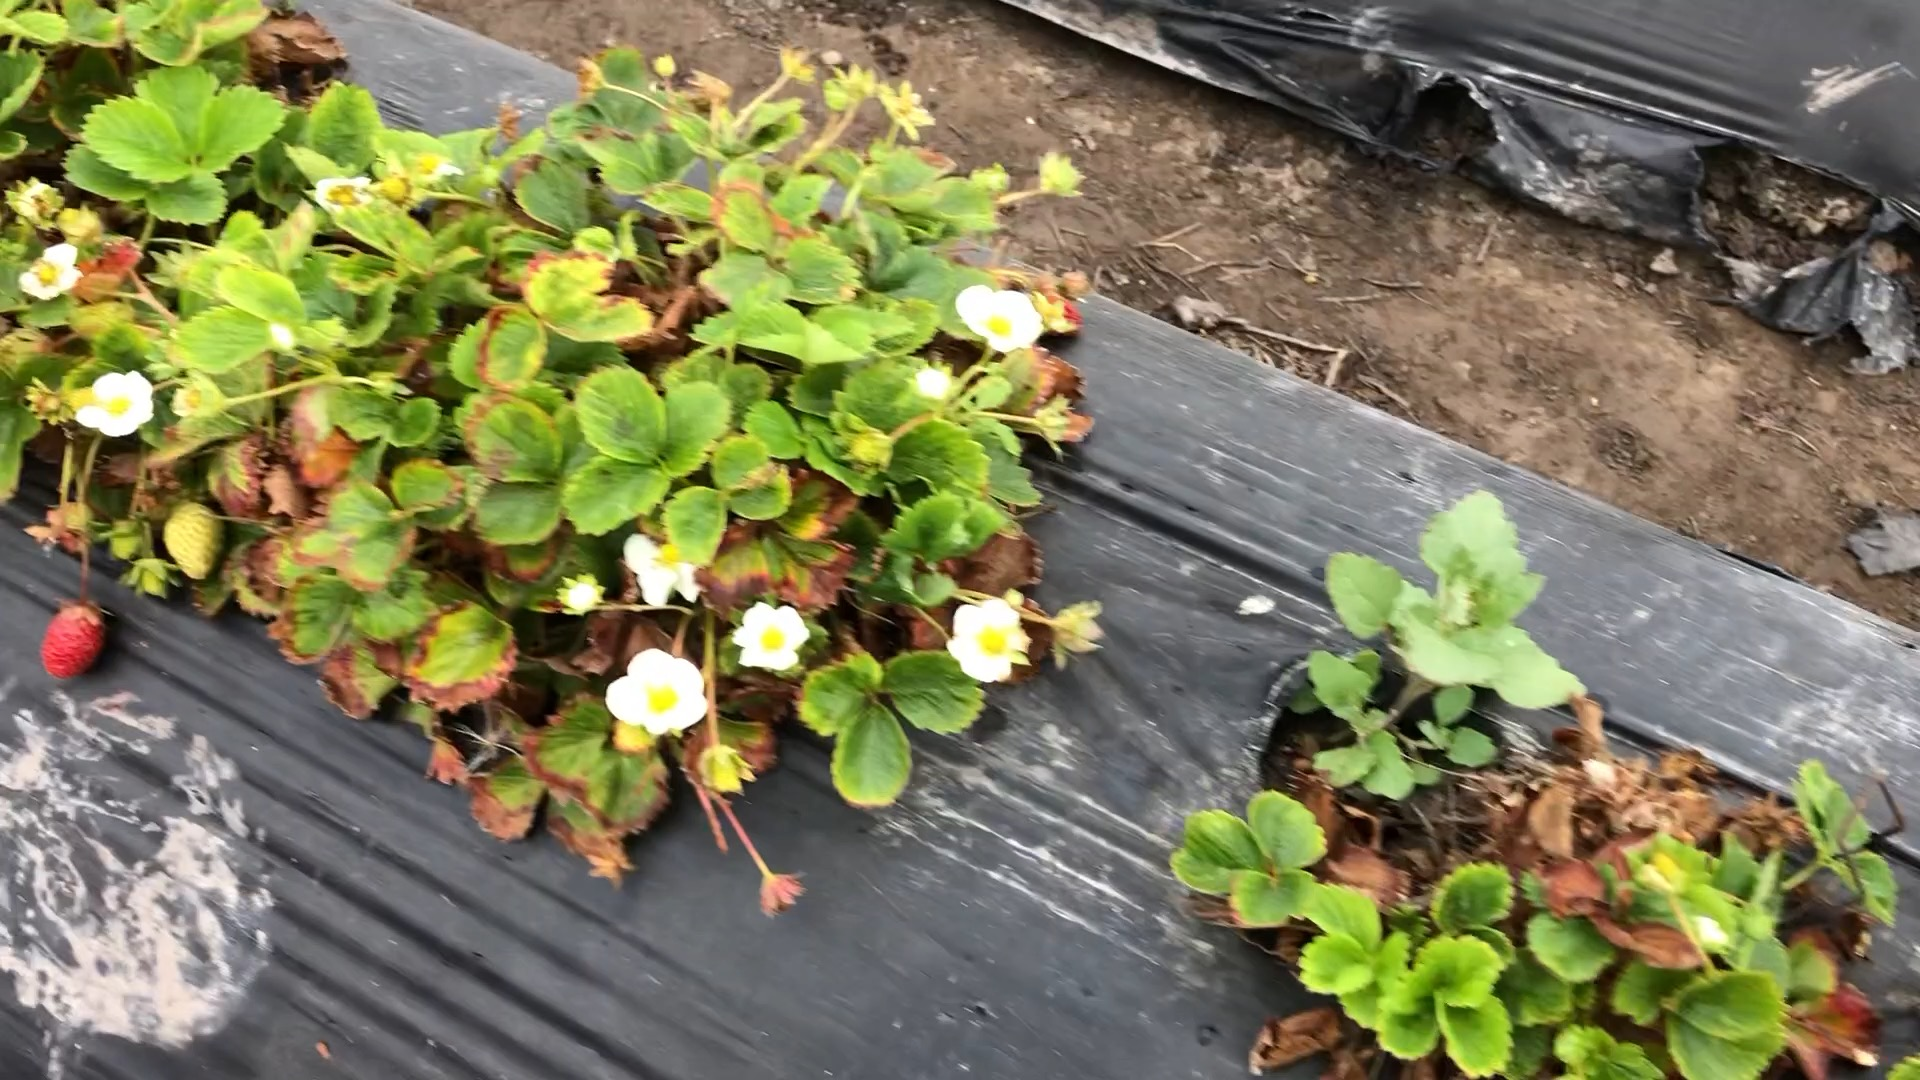ripe_strawberry: (40, 601, 113, 684)
unripe_strawberry: (160, 498, 229, 584)
